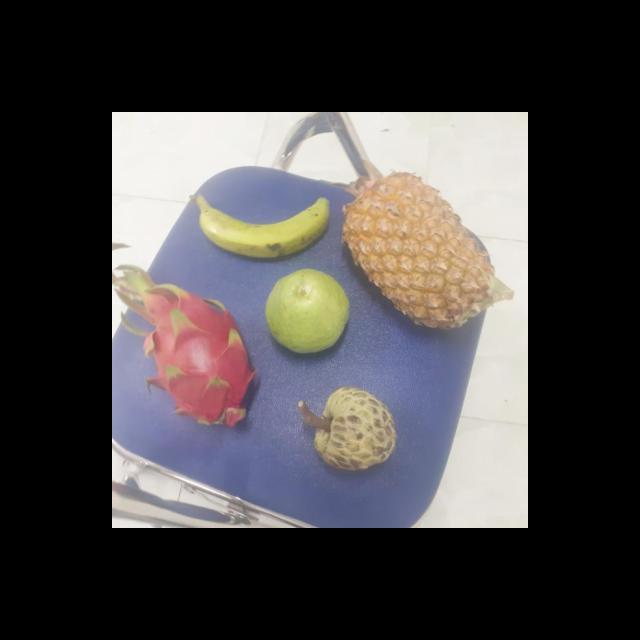Sakya fruit: (308, 388, 402, 469)
banana: (193, 170, 340, 262)
guava: (265, 268, 354, 354)
pineapple: (348, 180, 499, 328)
pitaya: (142, 294, 261, 428)
